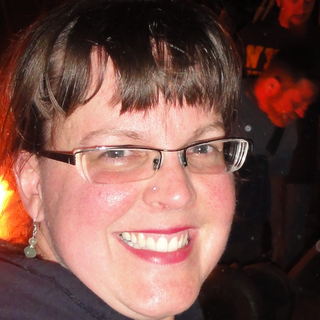eye: (99, 142, 147, 164), (182, 140, 221, 164)
